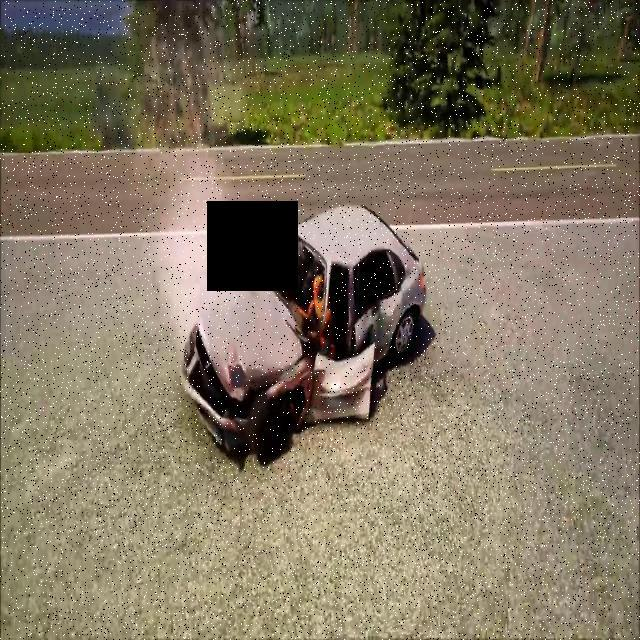severe: (174, 199, 430, 459)
